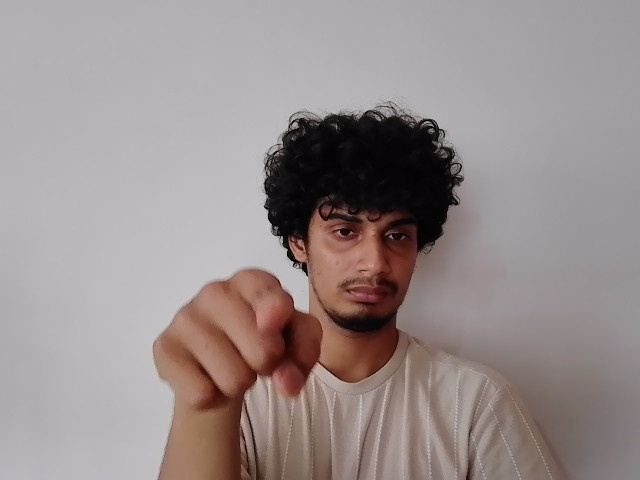you: (156, 266, 332, 420)
